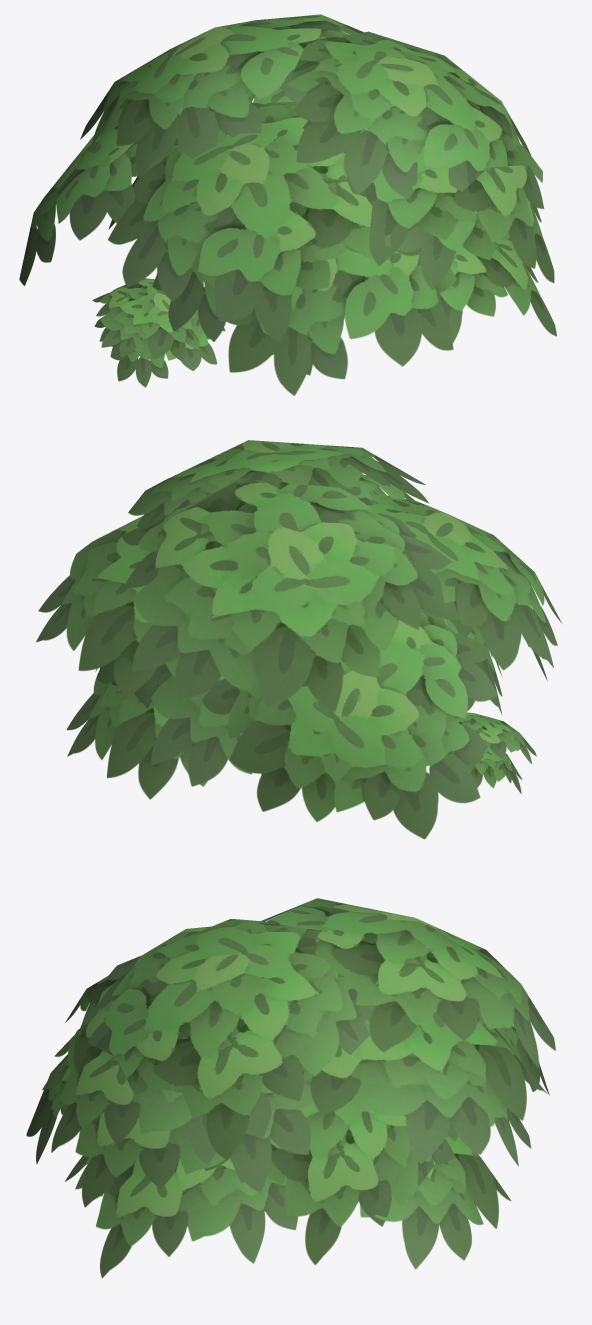
Rendered from bush.glb.
3 views of the same model, one above another, from view 1: azimuth 30°, elevation 25°; view 2: azimuth 150°, elevation 25°; view 3: azimuth 270°, elevation 25° (orthographic). The views are drawn at different scales.
Parts seen in each view (by area): view 1: Bush_Large; view 2: Bush_Large; view 3: Bush_Large.
Boxes of the visible parts, x1,y1,x2,y2 form: Bush_Large: (19, 14, 556, 395); Bush_Large: (36, 440, 562, 839); Bush_Large: (26, 898, 555, 1278).
Bounding box in the file's own units: 2.07 × 1.19 × 2.07.
1 material, 1 textured.
